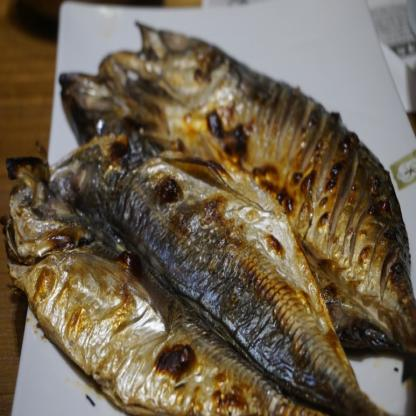Peixe: (0, 24, 416, 416)
